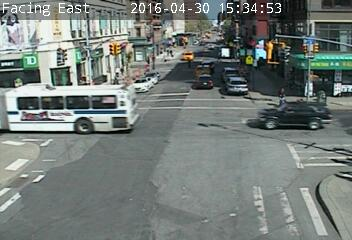neg: (162, 140, 175, 158), (128, 90, 140, 106), (299, 138, 310, 153), (197, 73, 207, 86), (75, 76, 83, 88), (244, 53, 252, 64), (78, 120, 86, 131), (208, 33, 215, 42), (190, 32, 194, 38)
pos: (276, 86, 290, 105), (118, 63, 126, 74), (168, 49, 174, 57), (165, 48, 171, 56)
